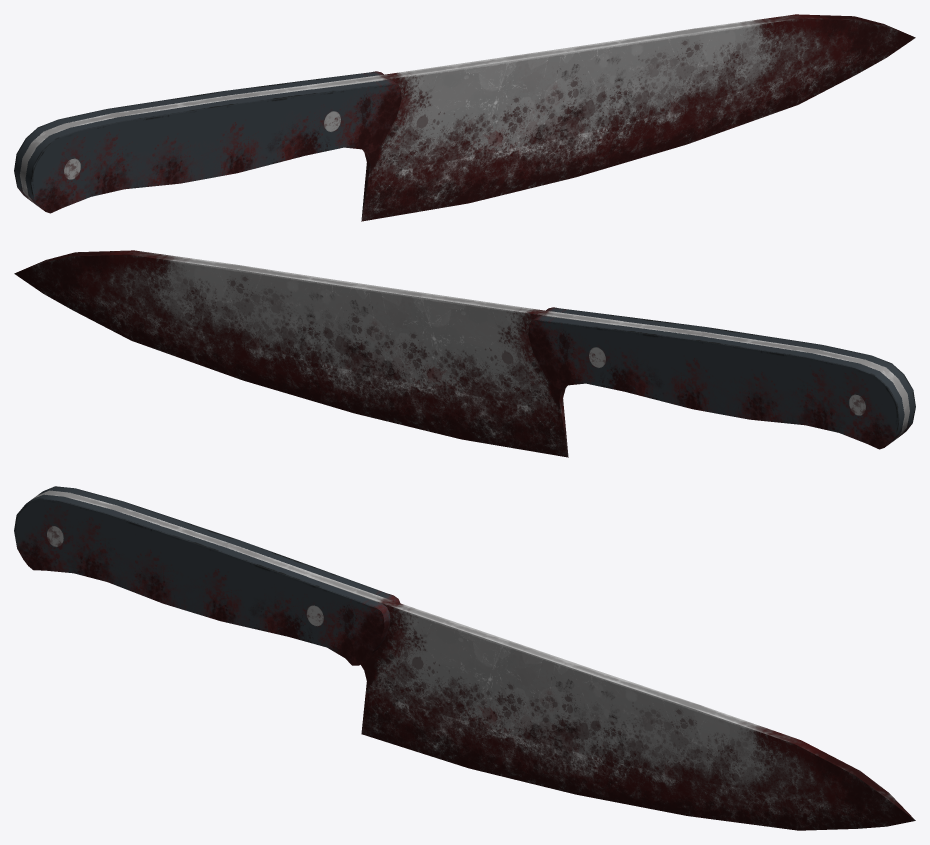
The model's file is Chef_Knife.fbx.
The picture shows the model from 3 angles, top to bottom: view 1: azimuth 30°, elevation 25°; view 2: azimuth 150°, elevation 25°; view 3: azimuth 330°, elevation 25°; orthographic projection.
Parts seen in each view (by area): view 1: Blade, Chef Knife; view 2: Blade, Chef Knife; view 3: Blade, Chef Knife.
Part boxes in pixels (left/top/right/bottom): Blade: left=20, top=14, right=915, bottom=221; Chef Knife: left=14, top=71, right=401, bottom=213; Blade: left=14, top=250, right=909, bottom=457; Chef Knife: left=528, top=307, right=915, bottom=449; Blade: left=33, top=490, right=915, bottom=830; Chef Knife: left=14, top=486, right=399, bottom=665.
Bounding box in the file's own units: 32.14 × 6.04 × 1.07.
